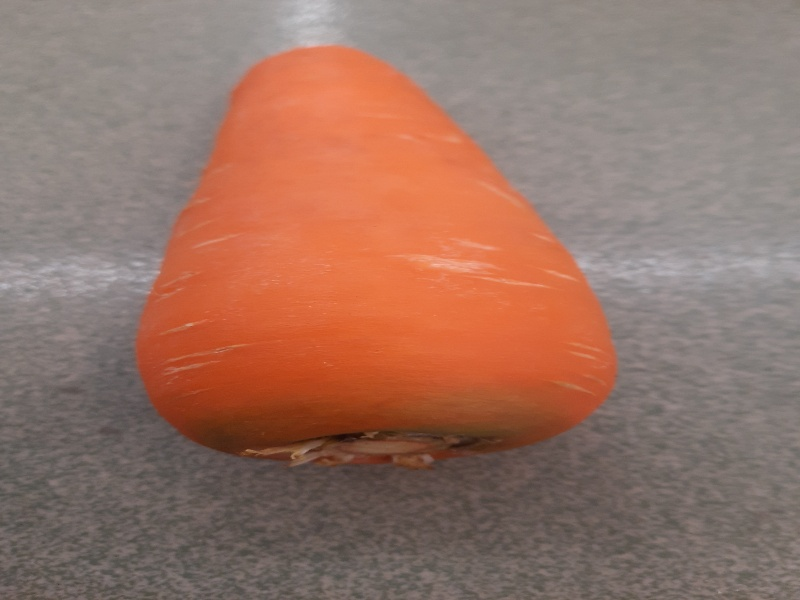vege: (119, 40, 622, 477)
